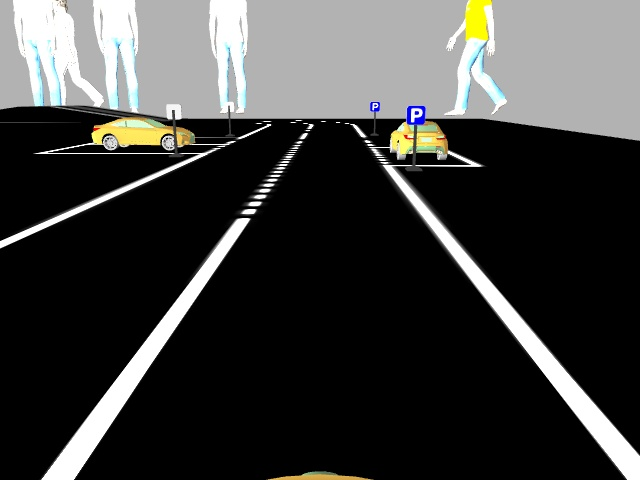Parking: (405, 103, 427, 125), (367, 100, 381, 112)
